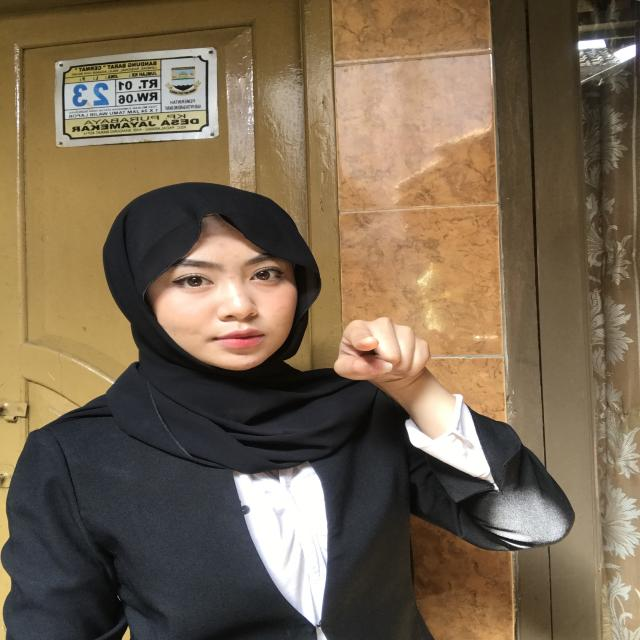kamu: (300, 301, 472, 429)
